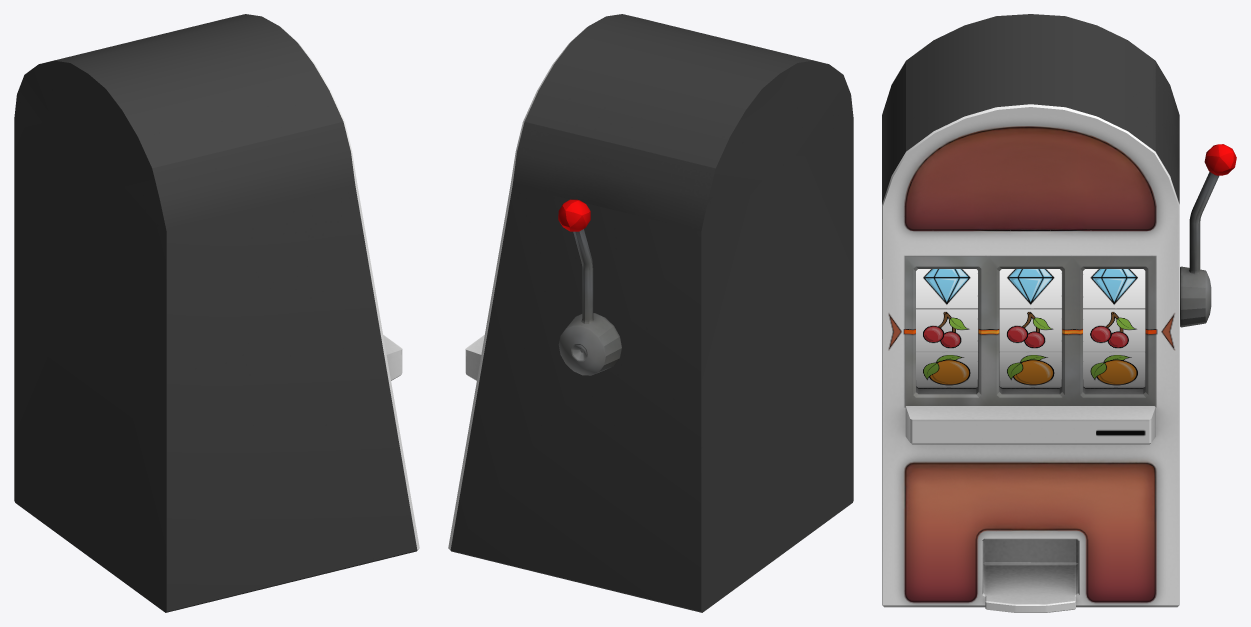
File: slotMachine.fbx
The picture shows the model from 3 angles, left to right: view 1: azimuth 30°, elevation 25°; view 2: azimuth 150°, elevation 25°; view 3: azimuth 270°, elevation 25°; orthographic projection. The views are drawn at different scales.
Parts seen in each view (by area): view 1: Icosphere_lp; view 2: Icosphere_lp, Cube; view 3: Icosphere_lp, Cylinder.002, Cylinder.001, Cylinder.003, Cube.
Boxes of the visible parts, left/top/right/bottom form: Icosphere_lp: left=14, top=14, right=419, bottom=612; Icosphere_lp: left=448, top=14, right=853, bottom=612; Cube: left=558, top=199, right=621, bottom=375; Icosphere_lp: left=882, top=14, right=1179, bottom=612; Cylinder.002: left=999, top=269, right=1062, bottom=387; Cylinder.001: left=916, top=269, right=978, bottom=387; Cylinder.003: left=1083, top=269, right=1145, bottom=387; Cube: left=1180, top=144, right=1236, bottom=327.
Bounding box in the file's own units: 142 × 241 × 164.
